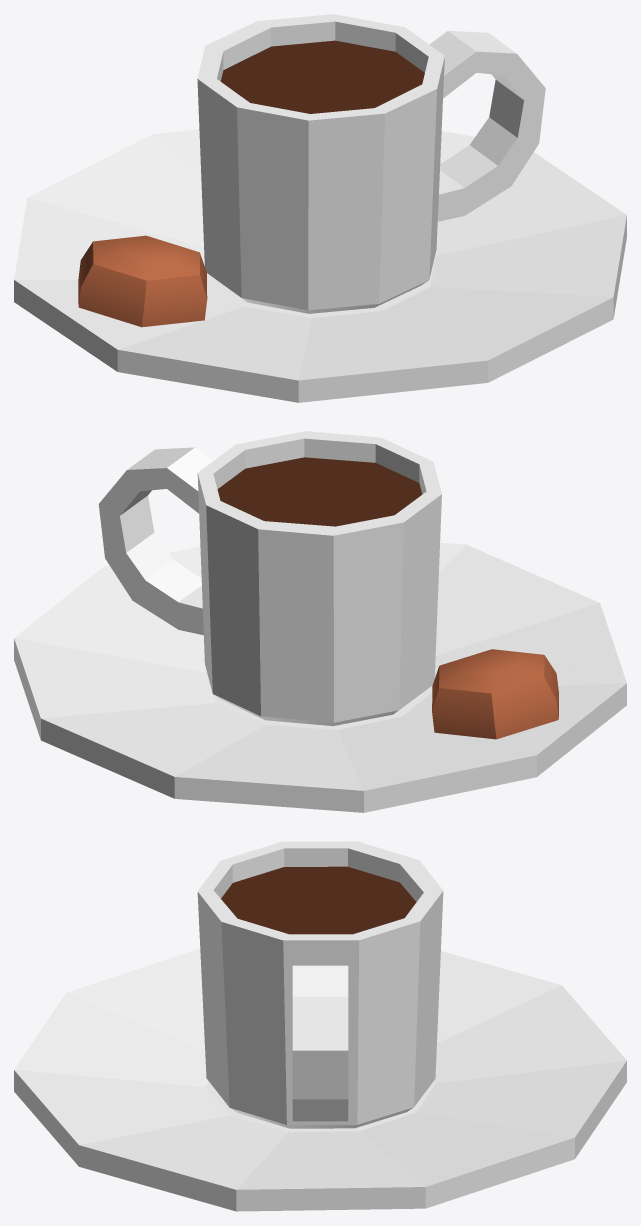
File: PW_espresso_cup.fbx
3 views of the same model, one above another, from view 1: azimuth 30°, elevation 25°; view 2: azimuth 150°, elevation 25°; view 3: azimuth 270°, elevation 25° (orthographic). The views are drawn at different scales.
Parts seen in each view (by area): view 1: tabak, fincan, kahve, kurabiye; view 2: tabak, fincan, kahve, kurabiye; view 3: tabak, fincan, kahve.
Part boxes in pixels (bbox=[...]): tabak: bbox=[14, 129, 626, 402]; fincan: bbox=[197, 14, 545, 313]; kahve: bbox=[221, 40, 424, 113]; kurabiye: bbox=[78, 235, 207, 327]; tabak: bbox=[14, 542, 626, 812]; fincan: bbox=[98, 431, 441, 725]; kahve: bbox=[217, 457, 422, 526]; kurabiye: bbox=[432, 649, 558, 739]; tabak: bbox=[14, 948, 626, 1211]; fincan: bbox=[197, 841, 443, 1128]; kahve: bbox=[221, 866, 416, 934].
Bounding box in the file's own units: 24.86 × 10.07 × 25.83.
1 material, 1 textured.
